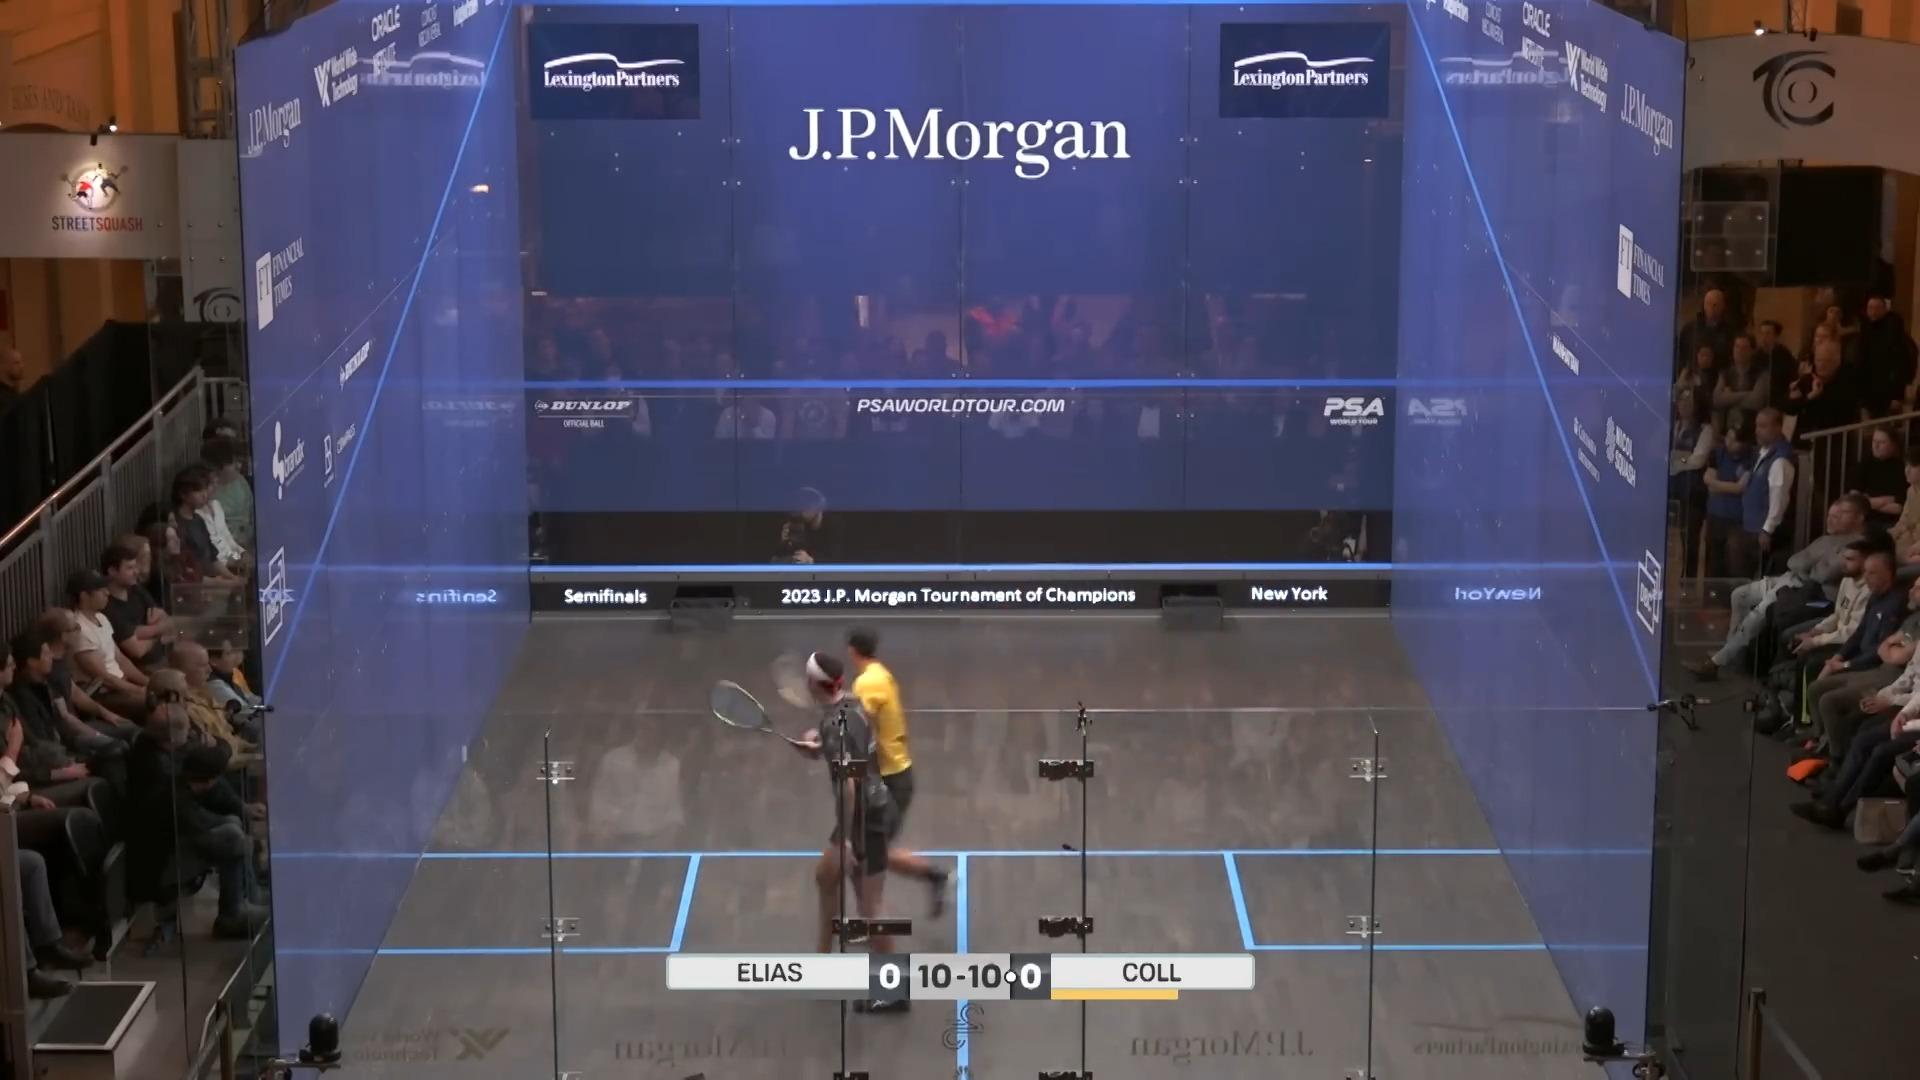Racket: (700, 670, 799, 757)
